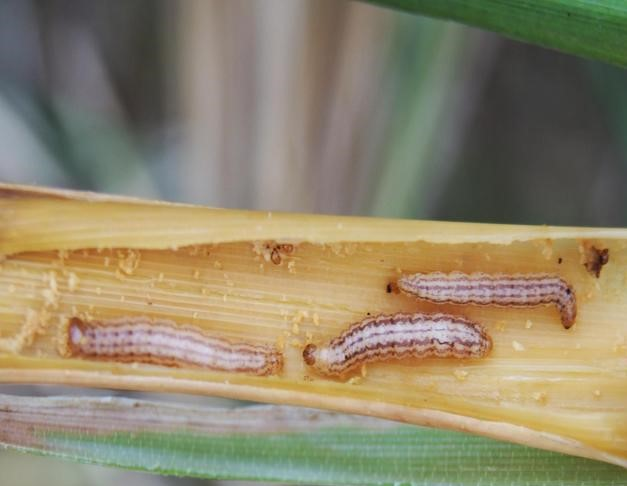yellow-stem-borer-larva: (61, 290, 282, 390), (374, 248, 592, 329), (289, 313, 510, 385)
